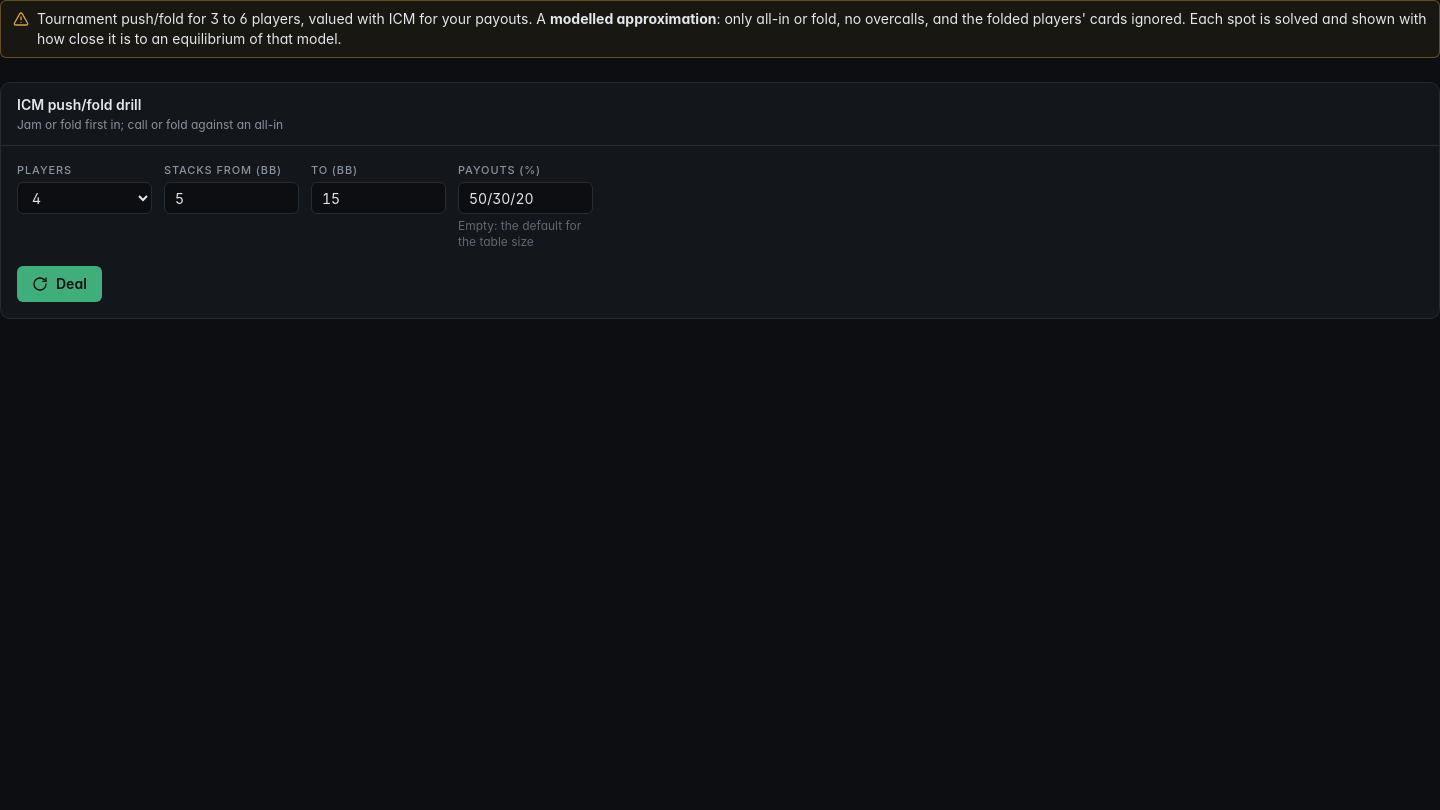
it: ICM push/fold trainer › deals a spot, grades it in prize-pool share and labels the model
The width and height of the screenshot is (1440, 810).
Click the button "Deal": (59, 284) [17,266,102,302]
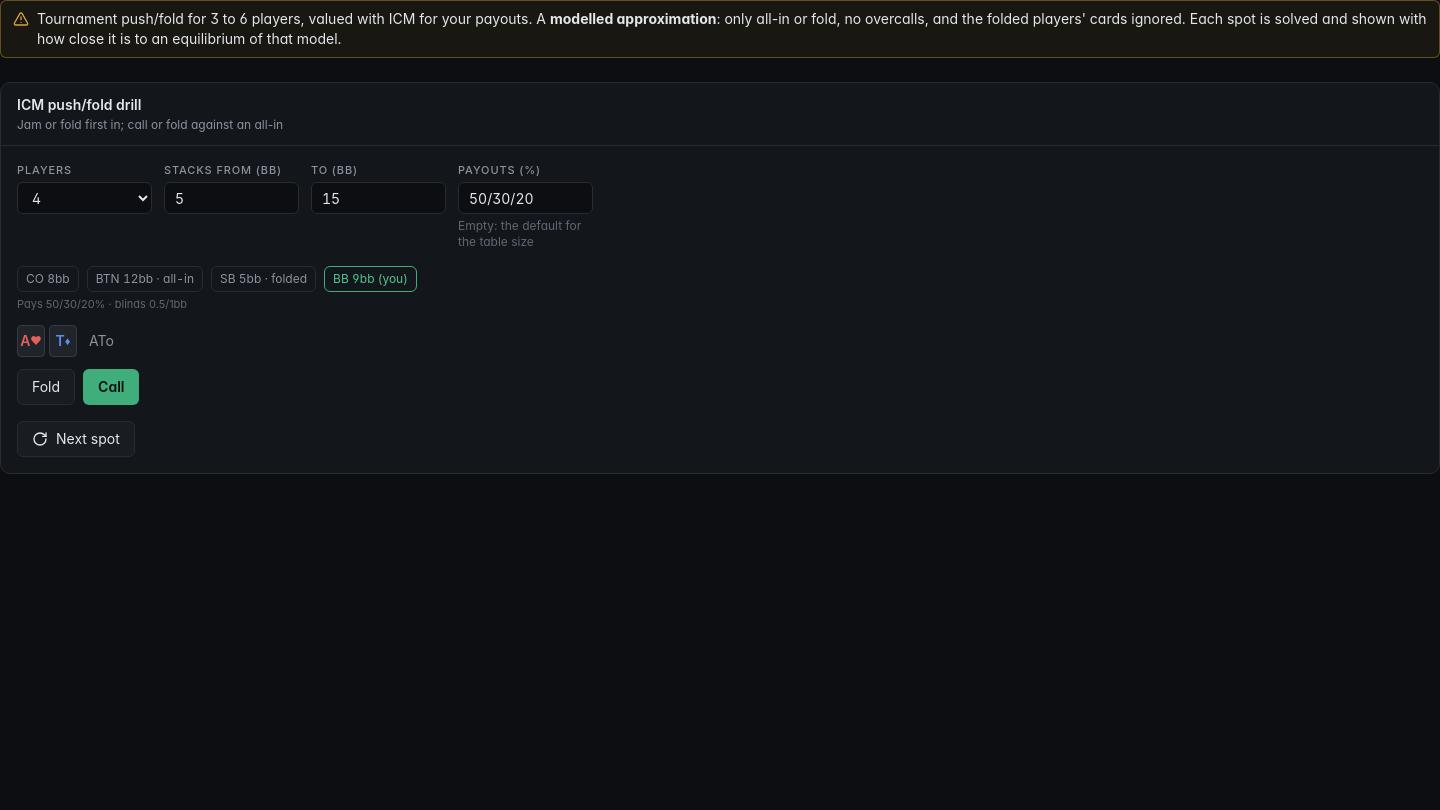
Expected: the list named "Stacks in order of action" shows "BTN 12bb · all-in", [17,266,417,292]
Expected: the list named "Stacks in order of action" shows "SB 5bb · folded", [17,266,417,292]
Expected: the list named "Stacks in order of action" shows "BB 9bb (you)", [17,266,417,292]
Click the button "Call": (111, 386) [83,368,140,404]
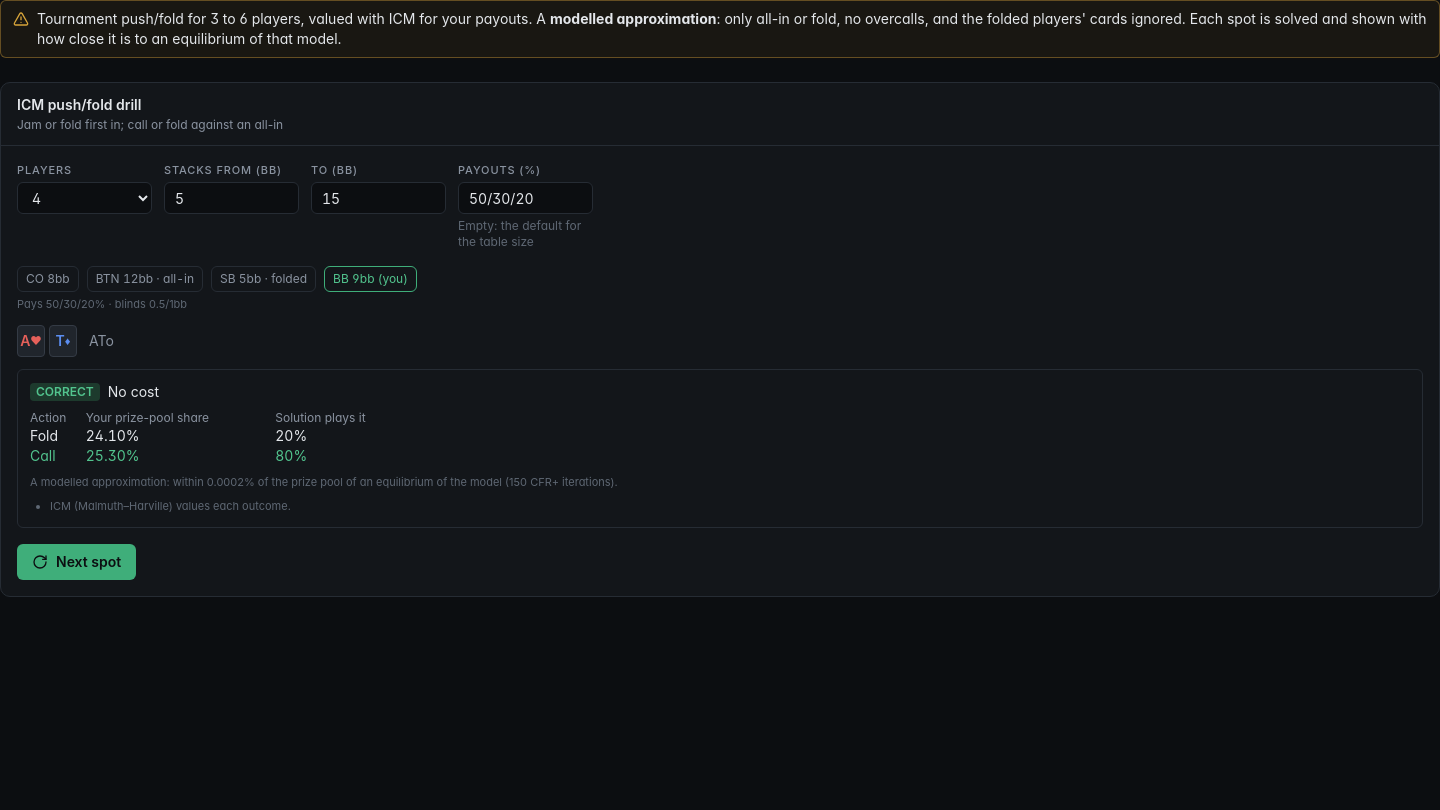
Expected: the element named "ICM grade" shows "Correct", [36,384,94,398]
Expected: the element named "ICM grade" shows "25.30%", [17,368,1423,528]
Expected: the element named "ICM grade" shows "modelled approximation", [30,474,207,488]
